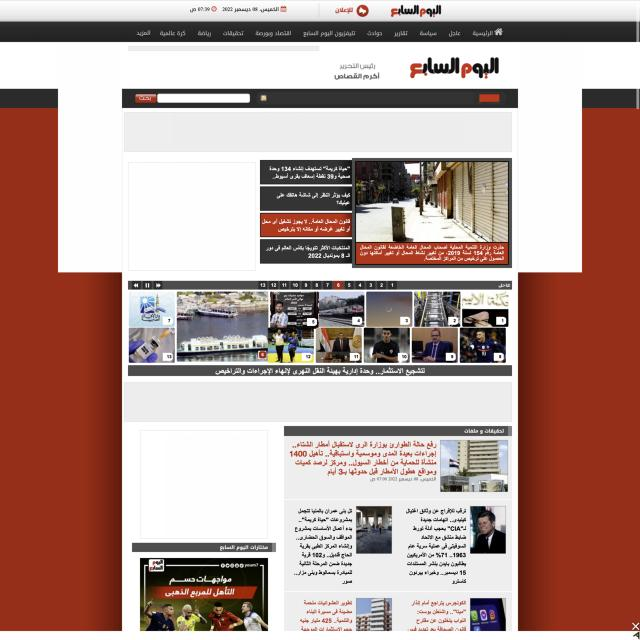input: (157, 93, 251, 103)
logo: (405, 52, 506, 86)
navigation: (129, 25, 506, 41)
